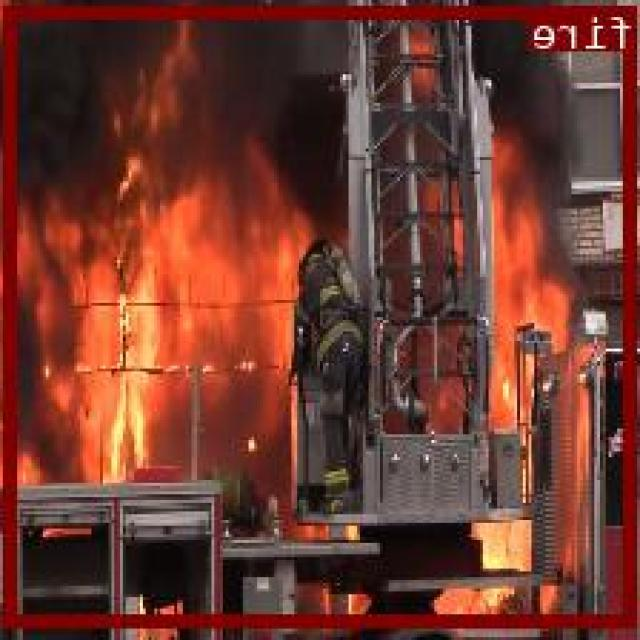fire: (8, 4, 639, 626)
